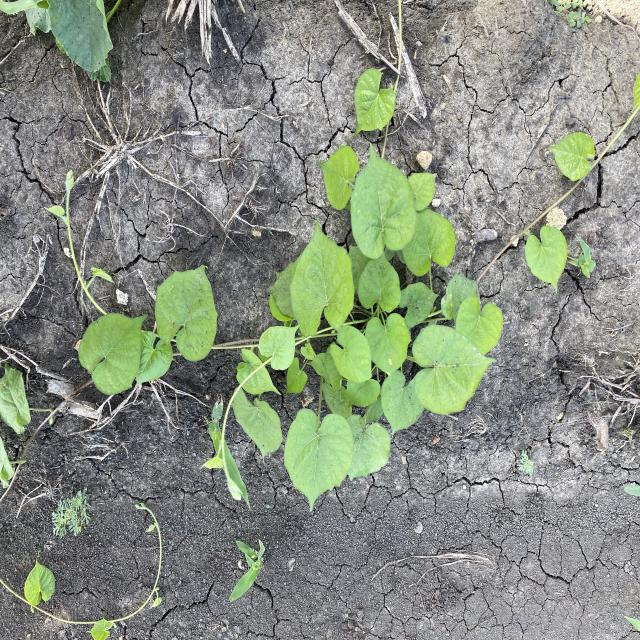MorningGlory: (1, 67, 636, 639)
Ragweed: (49, 488, 93, 542)
SpottedSpurge: (552, 0, 596, 33)
